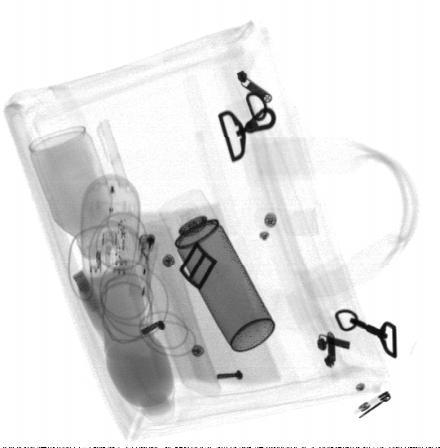Lighter: (125, 232, 162, 304)
Sprayer: (160, 188, 274, 352)
